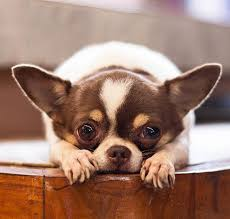chihuahua: (9, 33, 226, 191)
